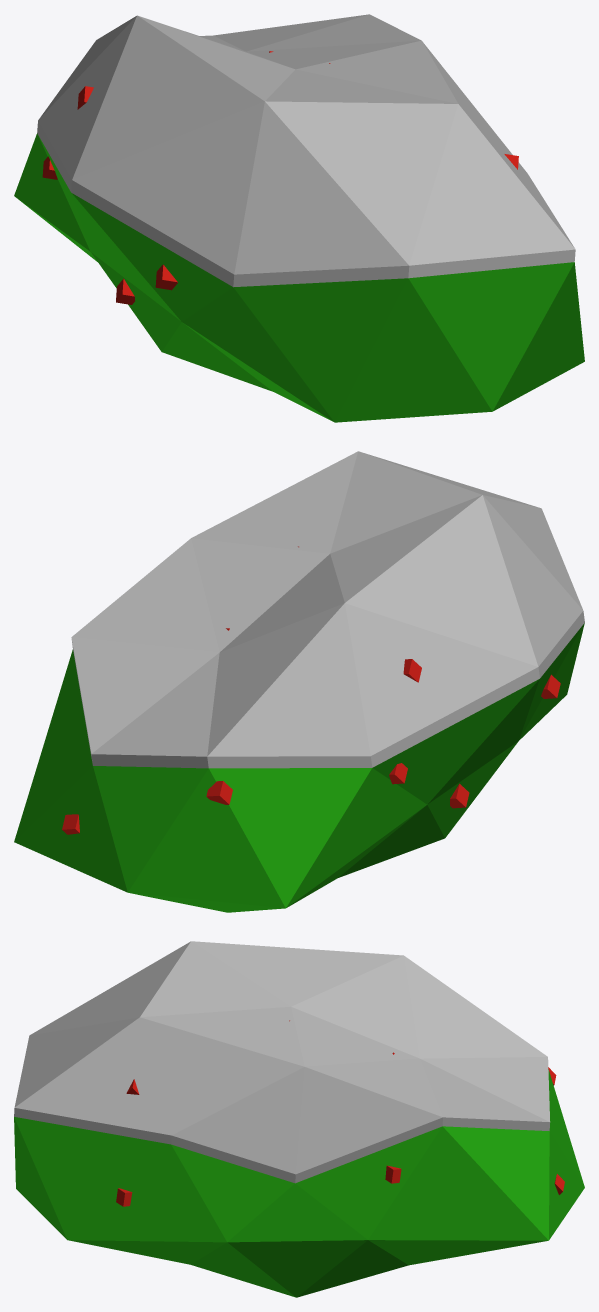
File: Bush_8 Winter.fbx
3 views of the same model, one above another, from view 1: azimuth 30°, elevation 25°; view 2: azimuth 150°, elevation 25°; view 3: azimuth 270°, elevation 25° (orthographic). The views are drawn at different scales.
Parts seen in each view (by area): view 1: Bush8Winter_mesh; view 2: Bush8Winter_mesh; view 3: Bush8Winter_mesh.
Boxes of the visible parts, bbox=[...] form: Bush8Winter_mesh: bbox=[14, 14, 584, 422]; Bush8Winter_mesh: bbox=[14, 451, 584, 912]; Bush8Winter_mesh: bbox=[14, 941, 584, 1297].
Size of the model in its own units: 148 by 111 by 221.
